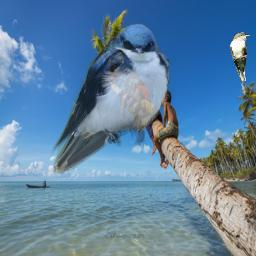Cuckoo: (230, 32, 250, 95)
Swallow: (49, 22, 171, 174)
